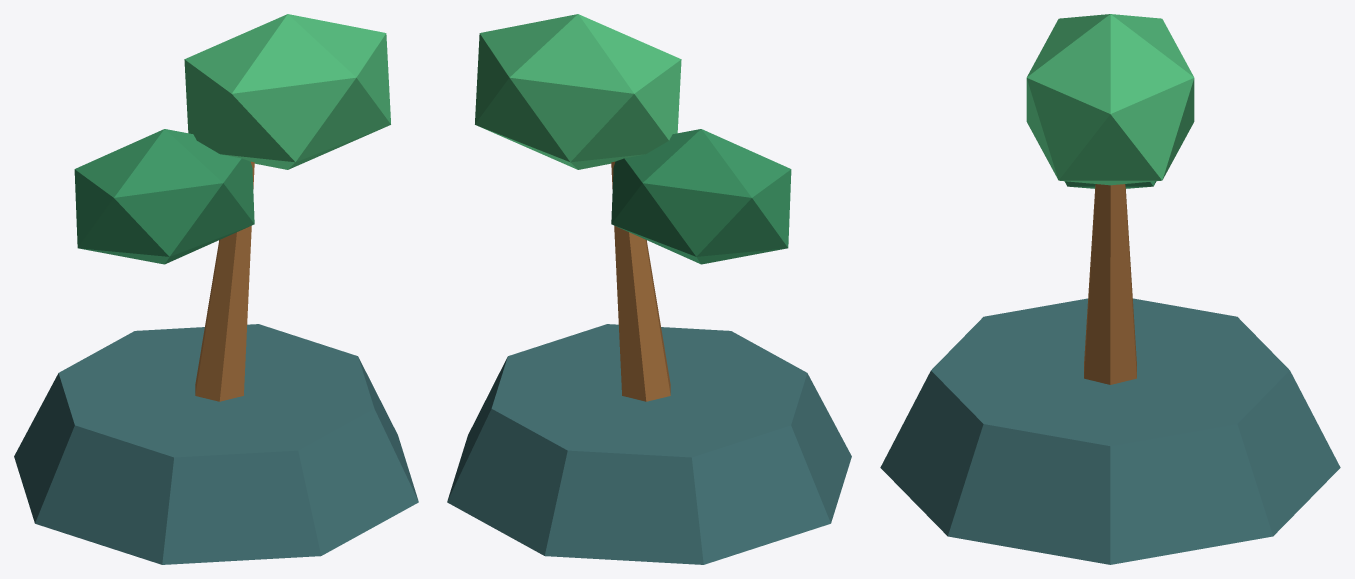
The model's file is seedling.glb.
3 renders of one model, left to right at view 1: azimuth 30°, elevation 25°; view 2: azimuth 150°, elevation 25°; view 3: azimuth 270°, elevation 25°, orthographic. The views are drawn at different scales.
Visible parts, largest first — view 1: Bonsai_Pot, Bonsai_Leaf_02, Bonsai_Leaf_01, Bonsai_Stem; view 2: Bonsai_Pot, Bonsai_Leaf_02, Bonsai_Leaf_01, Bonsai_Stem; view 3: Bonsai_Pot, Bonsai_Leaf_02, Bonsai_Stem.
Boxes of the visible parts, x1,y1,x2,y2 form: Bonsai_Pot: (14,324,418,564); Bonsai_Leaf_02: (184,14,390,169); Bonsai_Leaf_01: (74,129,254,264); Bonsai_Stem: (195,161,254,401); Bonsai_Pot: (447,324,851,564); Bonsai_Leaf_02: (475,14,681,169); Bonsai_Leaf_01: (611,129,791,264); Bonsai_Stem: (611,161,670,401); Bonsai_Pot: (880,298,1340,564); Bonsai_Leaf_02: (1026,14,1194,185); Bonsai_Stem: (1084,184,1136,384).
Size of the model in its own units: 1.12 by 1.32 by 1.12.
